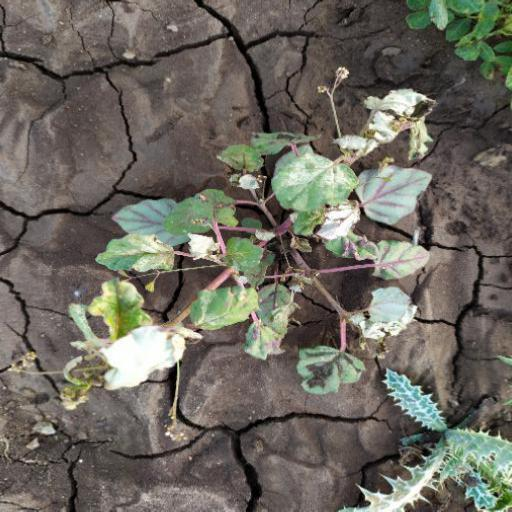weed: (56, 78, 448, 398), (343, 375, 512, 494)
